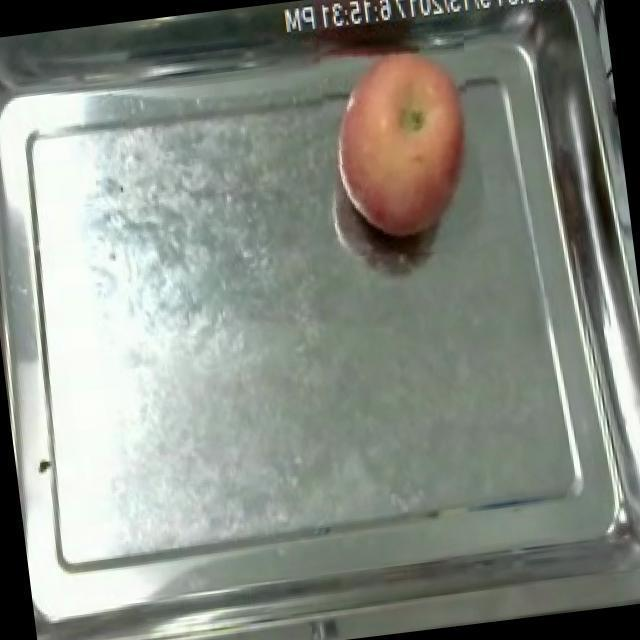apple: (337, 51, 465, 237)
